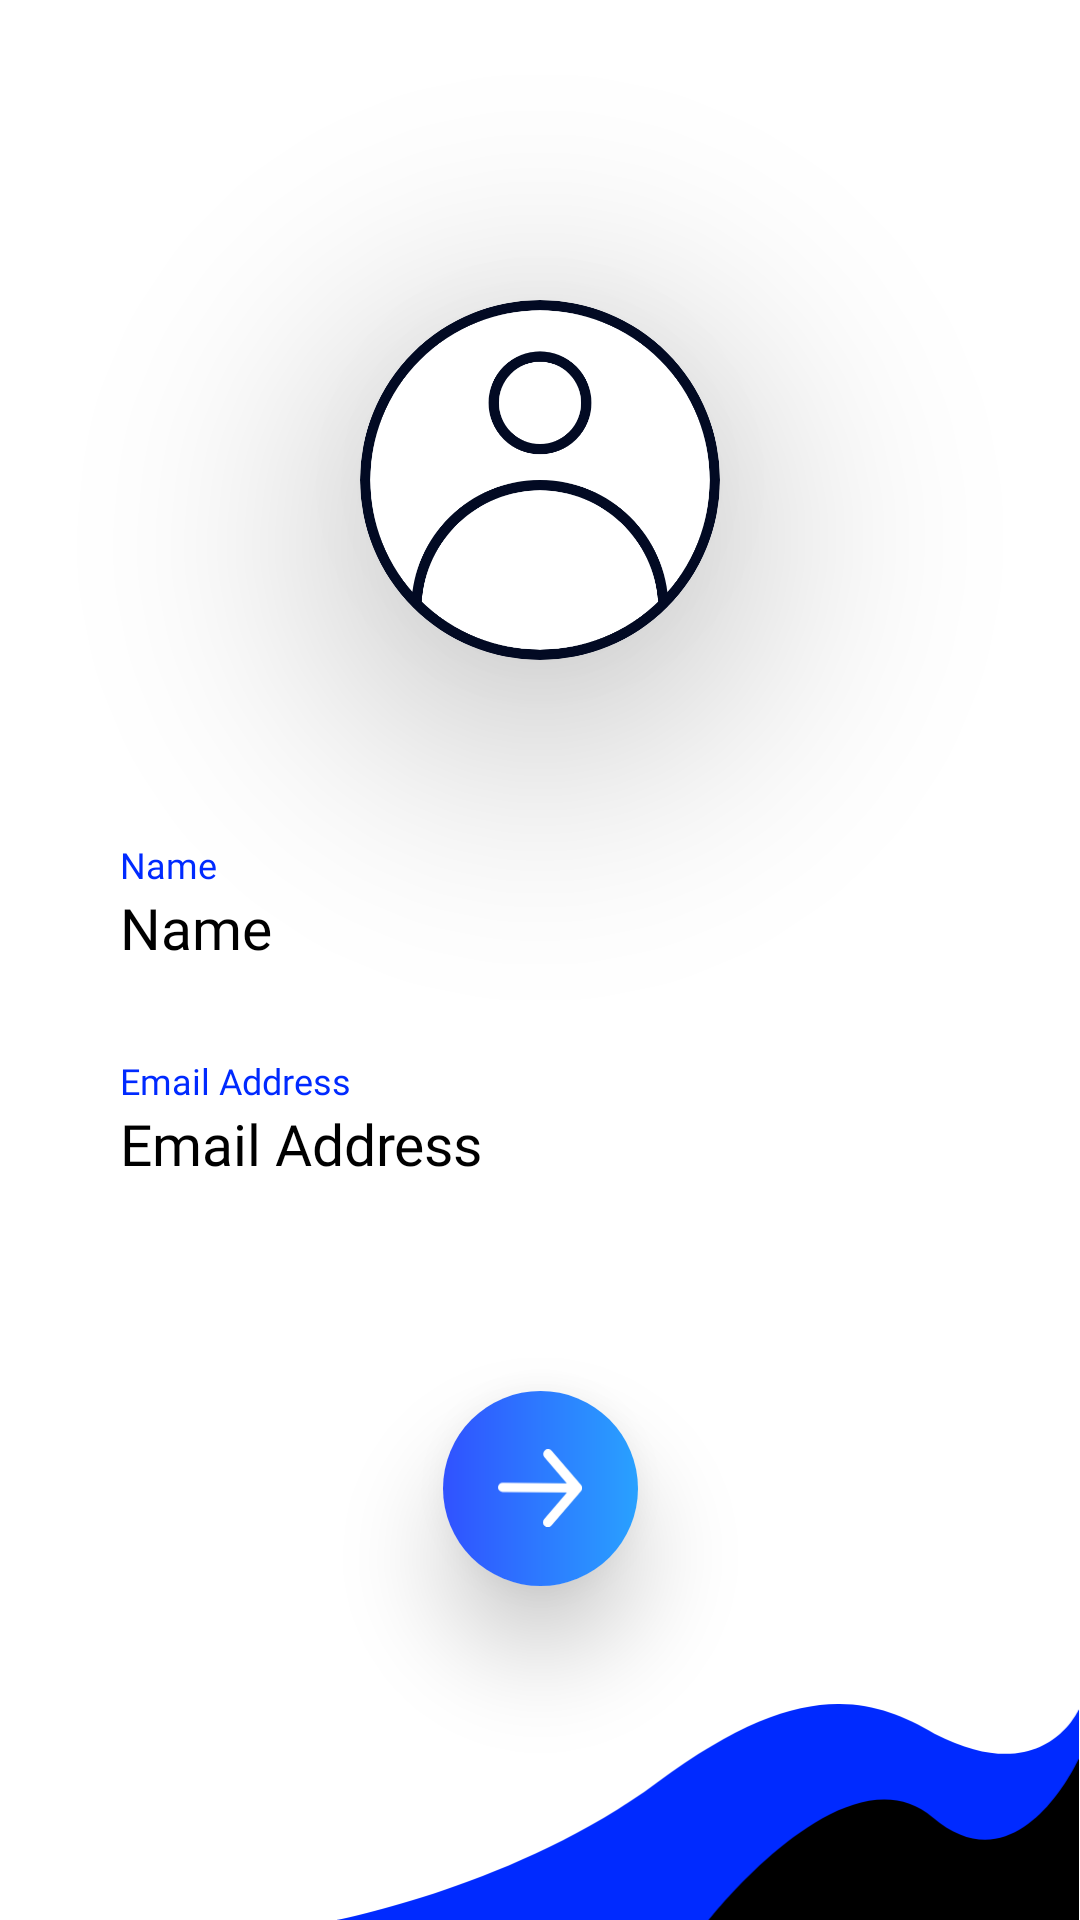

Where to tap for icons on this 1080 x 1920 app screen, as (x,y):
next arrow: (540,1488)
person: (540,480)
